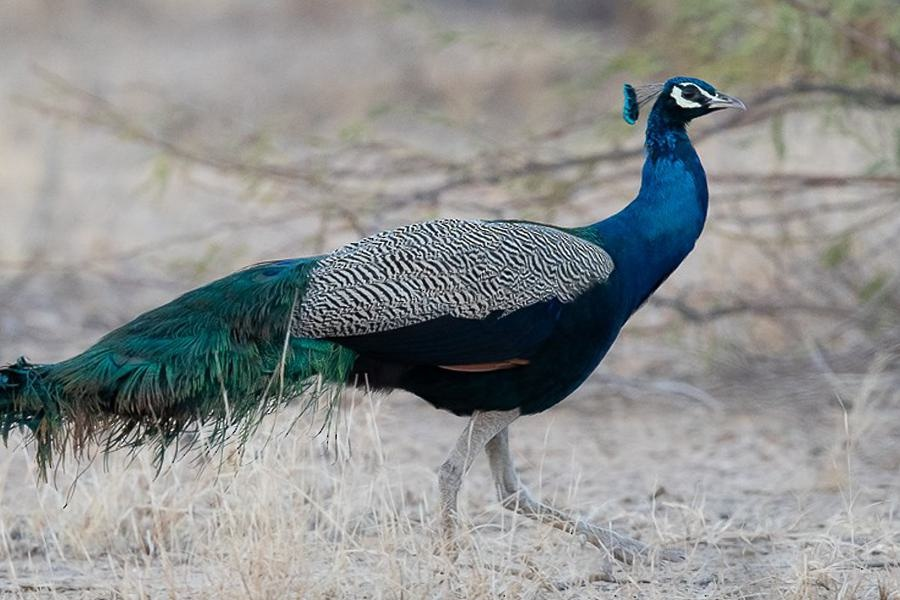peacock: (1, 54, 770, 551)
